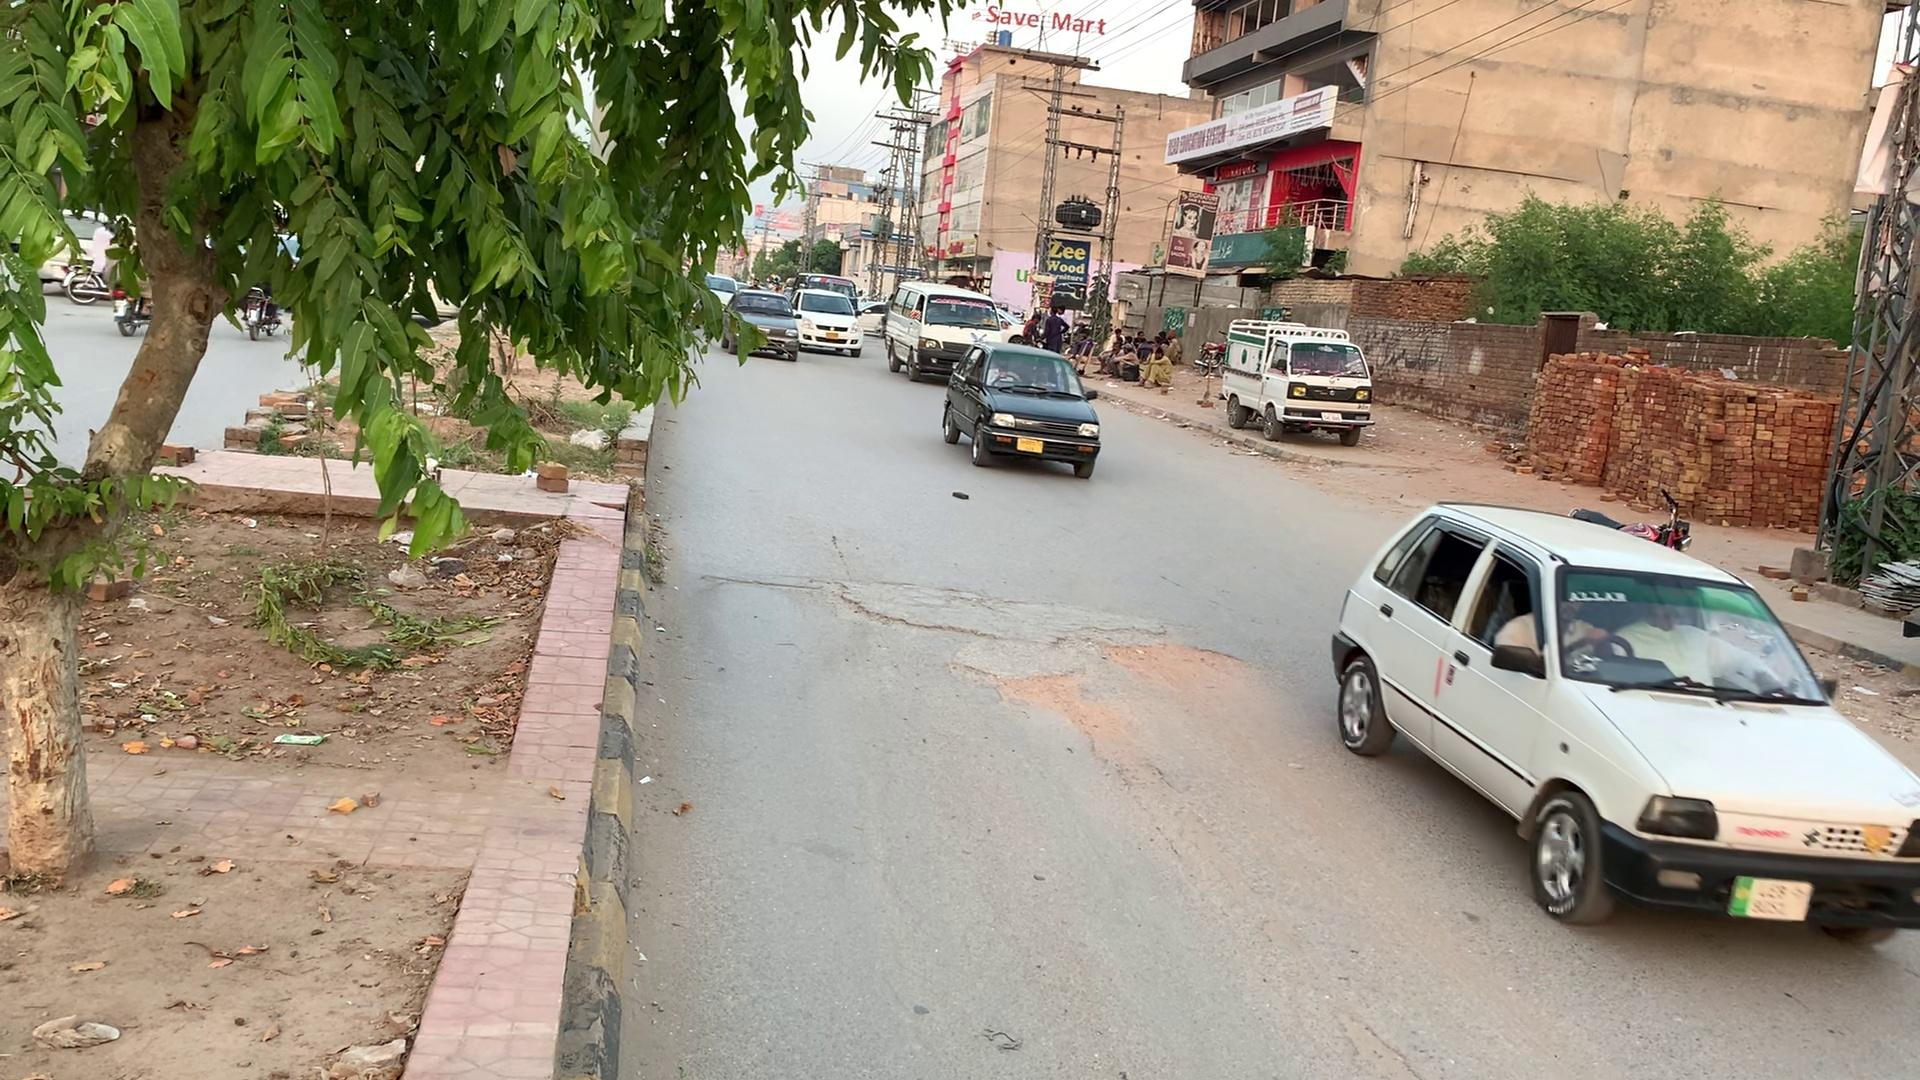windshield: (1544, 543, 1847, 724)
